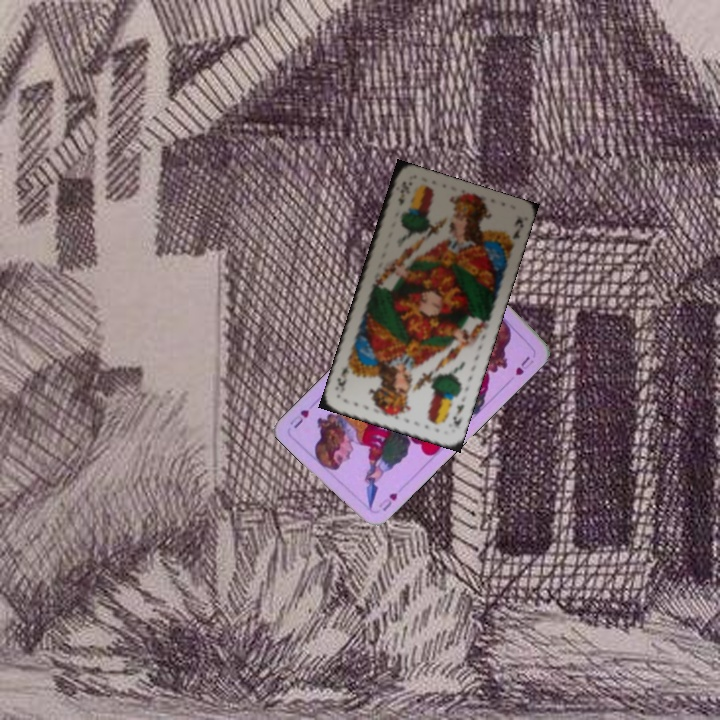EK: (449, 400, 467, 430), (394, 177, 410, 208)
HU: (378, 488, 400, 514)
